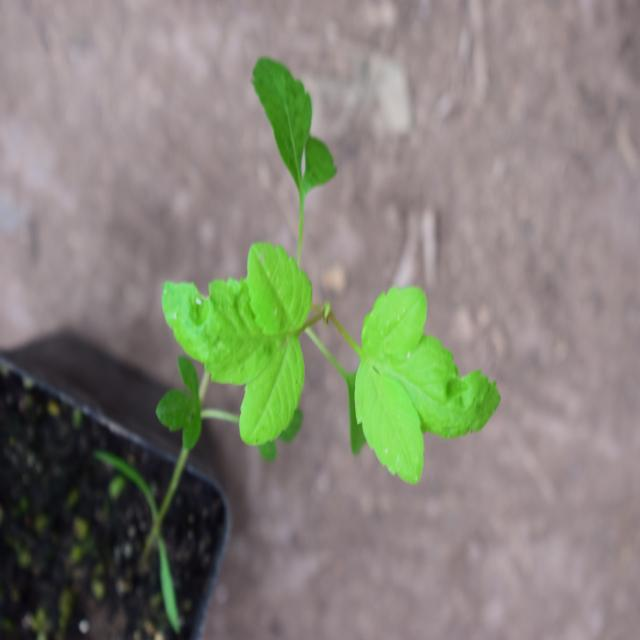Bidens pilosa: (155, 54, 498, 490)
